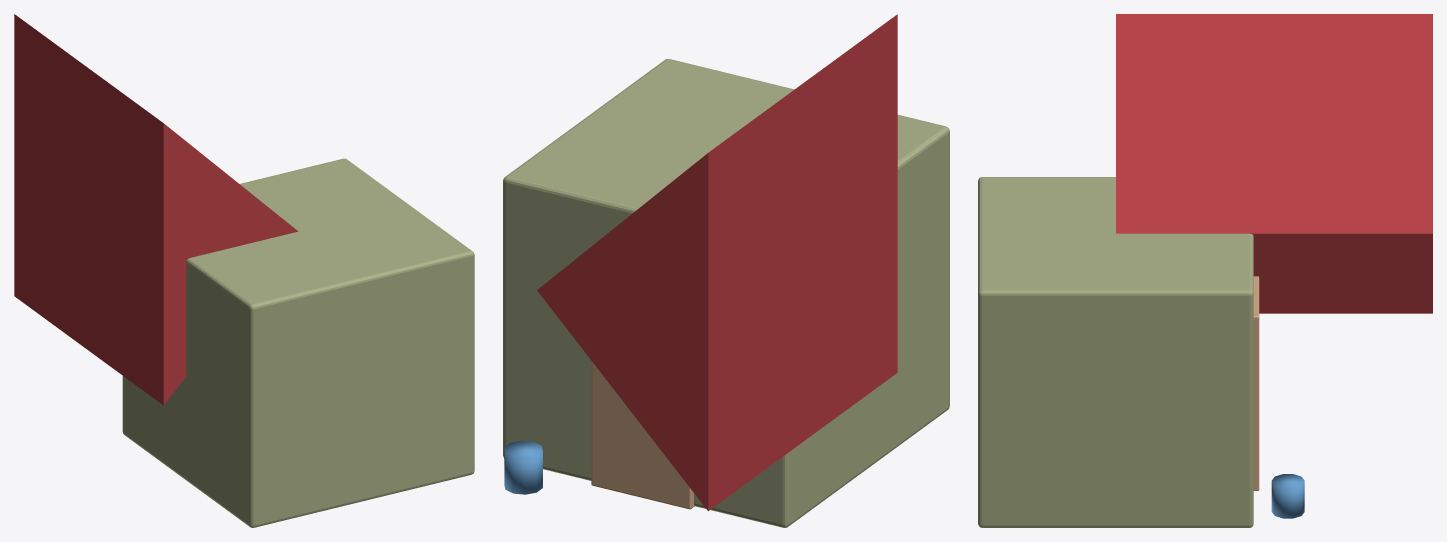
The model's file is shed.glb.
3 renders of one model, left to right at view 1: azimuth 30°, elevation 25°; view 2: azimuth 150°, elevation 25°; view 3: azimuth 270°, elevation 25°, orthographic. The views are drawn at different scales.
Visible parts, largest first — view 1: shed, shed_roof; view 2: shed_roof, shed, shed_door, shed_can; view 3: shed, shed_roof, shed_door, shed_can.
Part boxes in pixels (x1,y1,x2,y2): shed: [122, 158, 474, 527]; shed_roof: [14, 14, 298, 405]; shed_roof: [537, 14, 897, 511]; shed: [503, 59, 949, 527]; shed_door: [591, 361, 694, 509]; shed_can: [504, 440, 542, 494]; shed: [978, 177, 1253, 527]; shed_roof: [1116, 14, 1432, 313]; shed_door: [1253, 276, 1259, 490]; shed_can: [1271, 474, 1304, 518].
Bounding box in the file's own units: 2.2 × 3.1 × 3.3.
